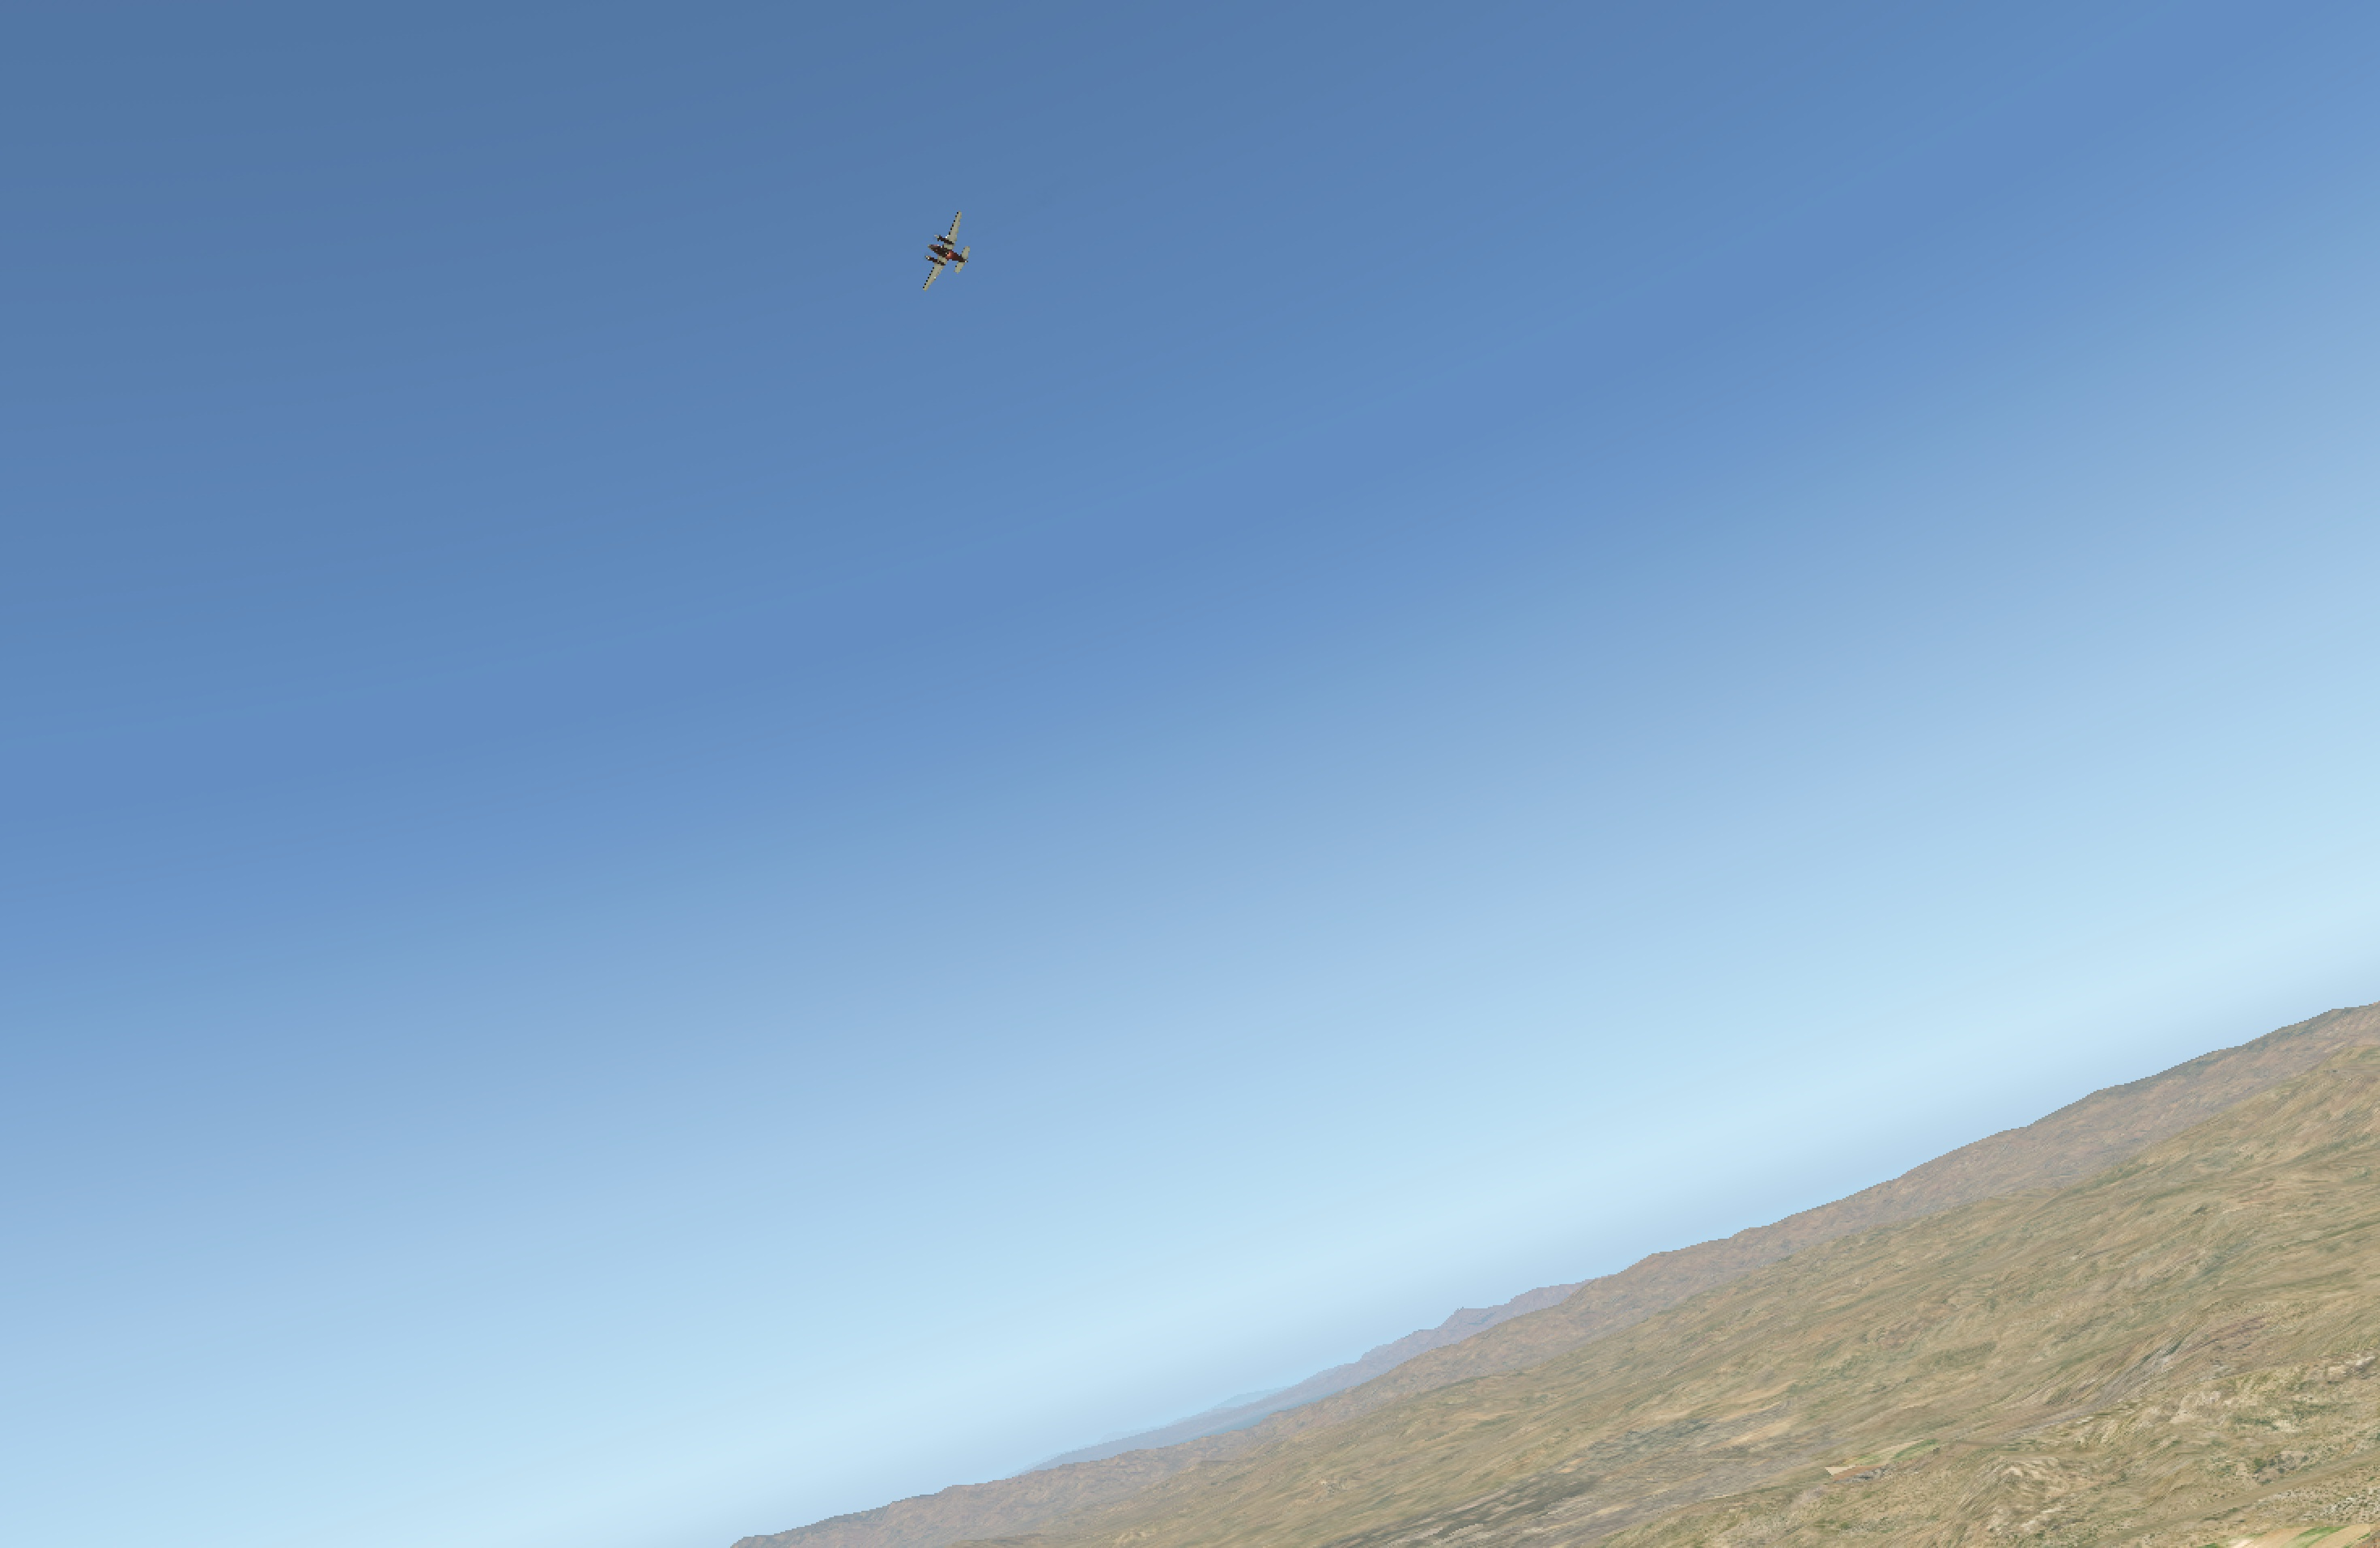aircraft: (900, 236, 985, 267)
